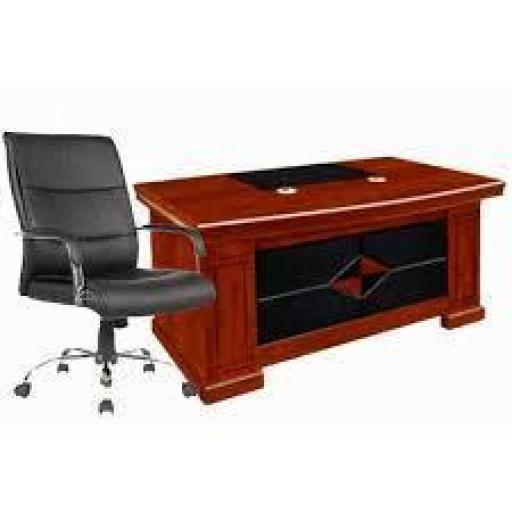chair: (0, 124, 225, 422)
